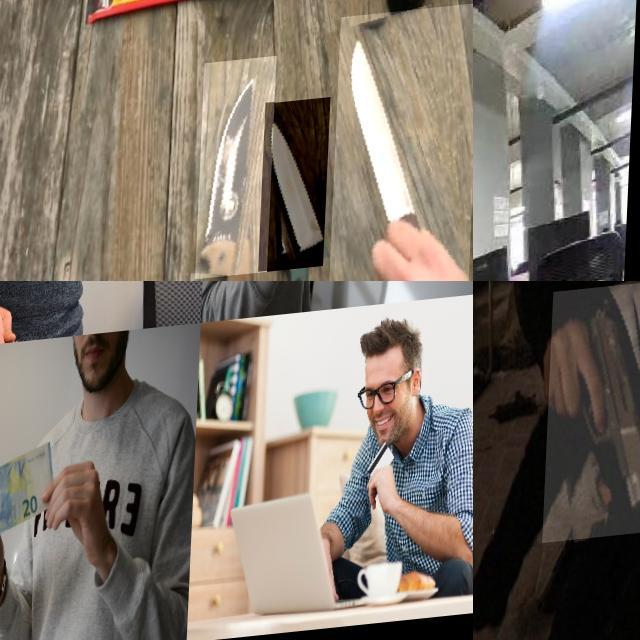-: (329, 15, 473, 281), (198, 64, 277, 281), (262, 106, 332, 281)
gun-knife-thesis - v11 Yolov5 augmented: (546, 287, 640, 547)
